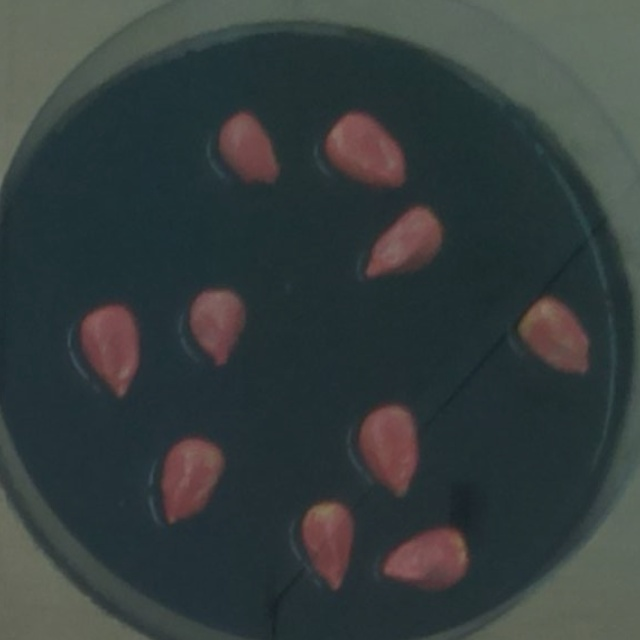Zea mays: (318, 105, 414, 198), (509, 288, 598, 385), (355, 200, 451, 289), (151, 429, 232, 534), (376, 519, 478, 601), (352, 398, 426, 508), (74, 299, 148, 408), (180, 281, 257, 376), (293, 494, 361, 598), (211, 104, 288, 195)
